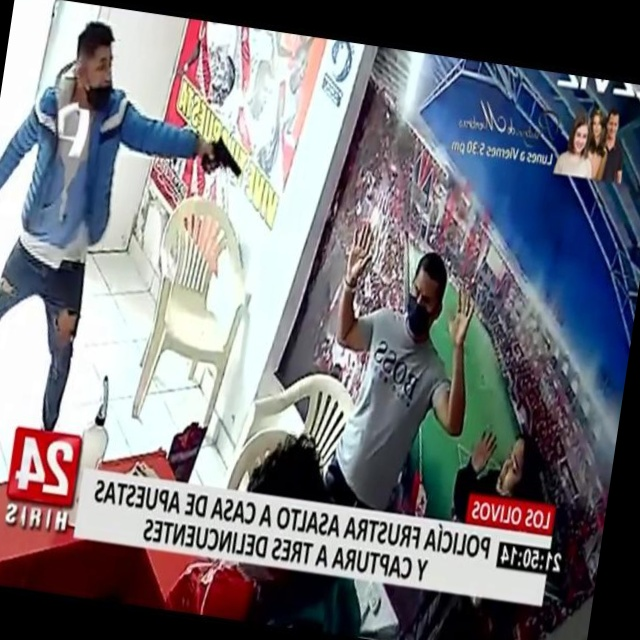gun: (192, 120, 257, 195)
